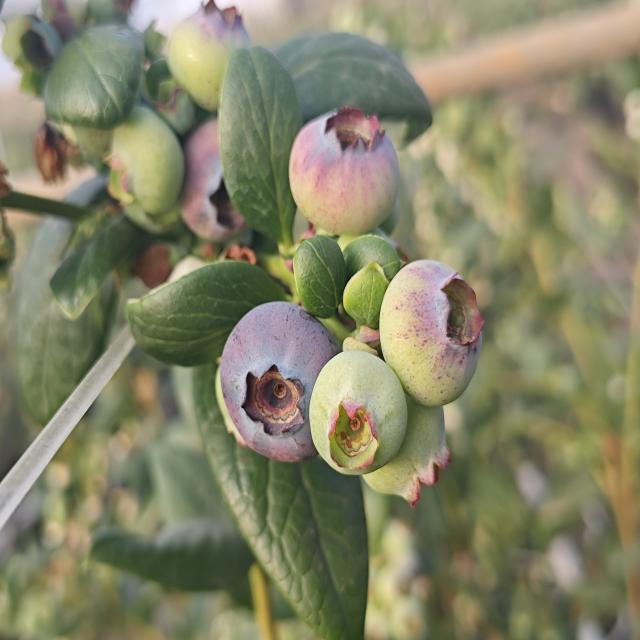ripe: (209, 284, 332, 473), (284, 80, 417, 234)
